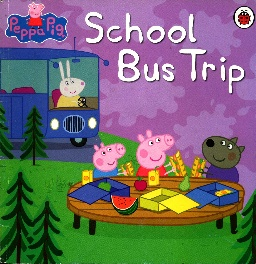Peppa: (133, 129, 177, 180)
